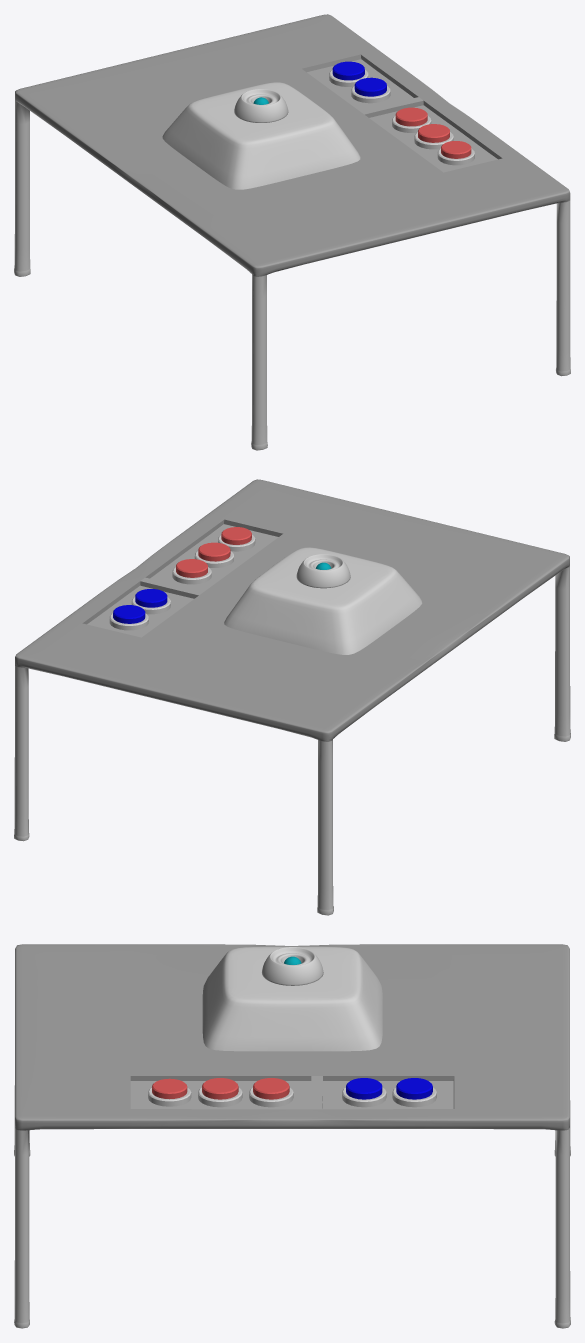
File: Setup_Five_Buttons.fbx
3 renders of one model, top to bottom at view 1: azimuth 30°, elevation 25°; view 2: azimuth 150°, elevation 25°; view 3: azimuth 270°, elevation 25°, orthographic. The views are drawn at different scales.
Parts seen in each view (by area): view 1: polySurface1, Model_Stand, pSphere1, button_4, button_3, button_1, button_5, button_2; view 2: polySurface1, Model_Stand, pSphere1, button_5, button_1, button_3, button_4, button_2; view 3: polySurface1, Model_Stand, pSphere1, button_1, button_3, button_4, button_5, button_2.
Boxes of the visible parts, left/top/right/bottom form: polySurface1: left=14, top=14, right=570, bottom=450; Model_Stand: left=162, top=82, right=360, bottom=189; pSphere1: left=234, top=89, right=288, bottom=122; button_4: left=351, top=77, right=390, bottom=103; button_3: left=414, top=124, right=453, bottom=149; button_1: left=392, top=107, right=431, bottom=132; button_5: left=329, top=61, right=368, bottom=86; button_2: left=437, top=141, right=474, bottom=165; polySurface1: left=14, top=479, right=570, bottom=915; Model_Stand: left=224, top=547, right=422, bottom=654; pSphere1: left=296, top=554, right=350, bottom=588; button_5: left=109, top=605, right=148, bottom=630; button_1: left=172, top=559, right=211, bottom=584; button_3: left=194, top=542, right=233, bottom=567; button_4: left=131, top=589, right=170, bottom=614; button_2: left=218, top=527, right=255, bottom=551; polySurface1: left=14, top=944, right=570, bottom=1328; Model_Stand: left=202, top=946, right=382, bottom=1051; pSphere1: left=261, top=947, right=323, bottom=985; button_1: left=249, top=1078, right=293, bottom=1107; button_3: left=198, top=1078, right=242, bottom=1107; button_4: left=342, top=1078, right=386, bottom=1107; button_5: left=392, top=1078, right=436, bottom=1107; button_2: left=148, top=1078, right=191, bottom=1106.
Size of the model in its own units: 14 by 9.83 by 18.62.
